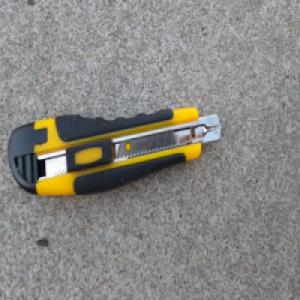Cutter: (7, 104, 221, 199)
